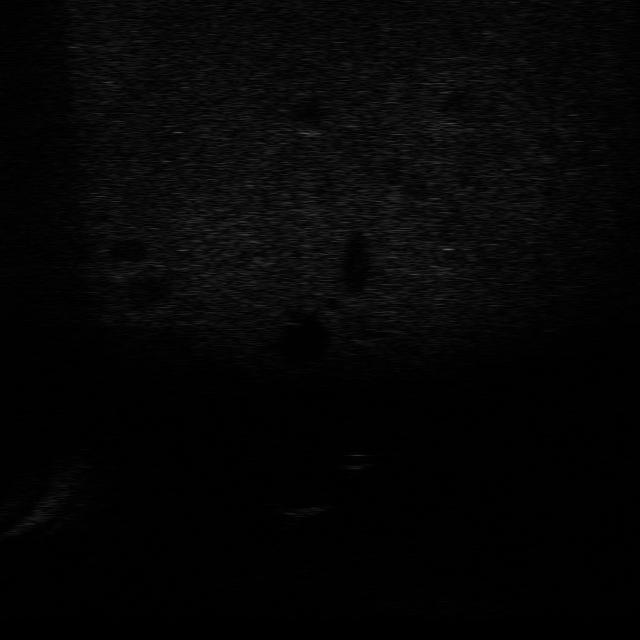ball: (332, 446, 378, 475)
square cage: (268, 488, 336, 521)
